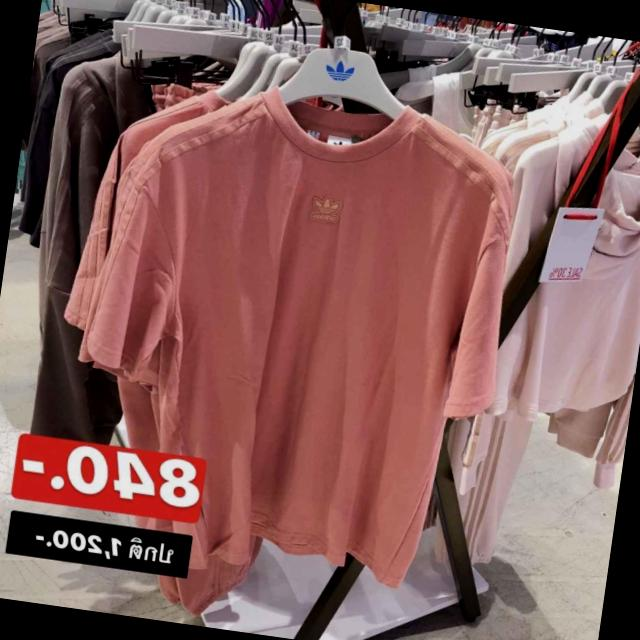Tshirt: (70, 60, 532, 577)
